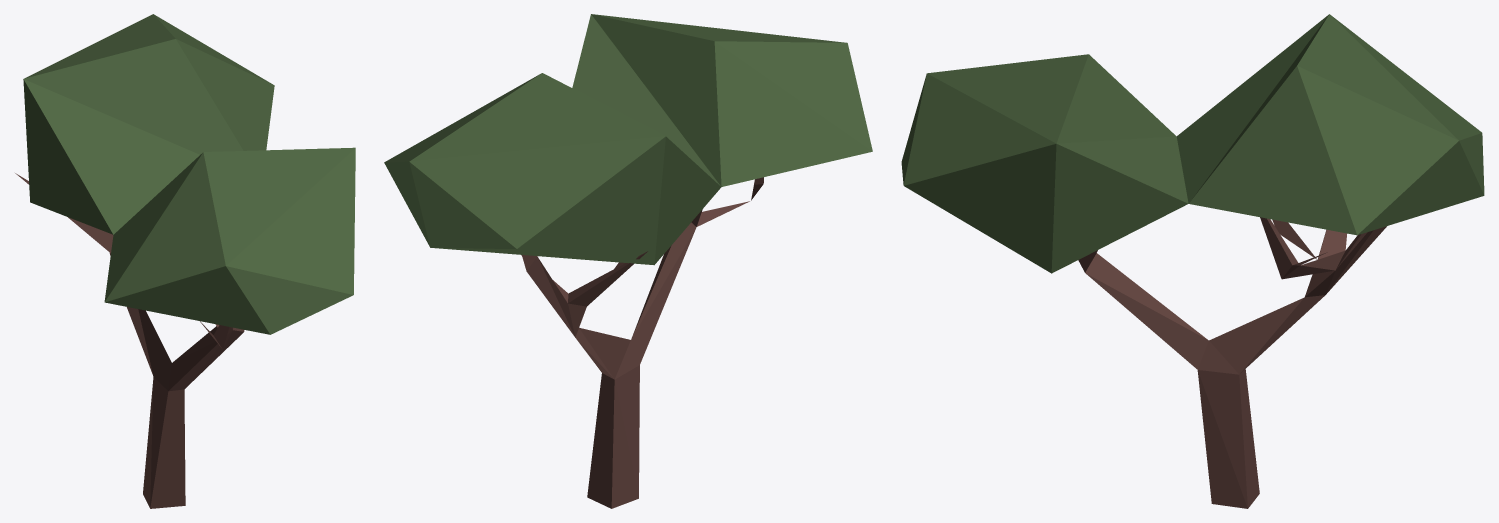
The model's file is qn_tree_a_lod.glb.
The picture shows the model from 3 angles, left to right: view 1: azimuth 30°, elevation 25°; view 2: azimuth 150°, elevation 25°; view 3: azimuth 270°, elevation 25°; orthographic projection. The views are drawn at different scales.
Visible parts, largest first — view 1: qn_tree_a_lod; view 2: qn_tree_a_lod; view 3: qn_tree_a_lod.
Part boxes in pixels (<box>): qn_tree_a_lod: <box>15,14,355,508</box>; qn_tree_a_lod: <box>384,14,872,508</box>; qn_tree_a_lod: <box>901,14,1484,508</box>.
Size of the model in its own units: 1.89 by 2.38 by 2.77.
